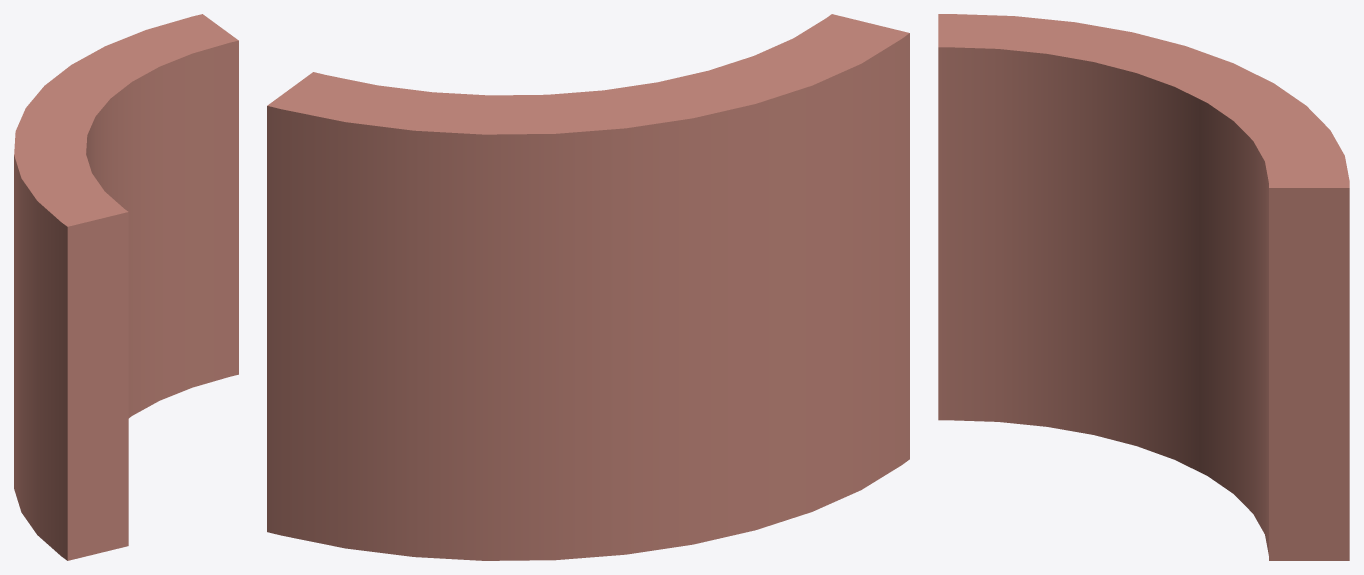
The model's file is BasicWall1x5CornerRoundedLong.fbx.
3 views of the same model, side by side, from view 1: azimuth 30°, elevation 25°; view 2: azimuth 150°, elevation 25°; view 3: azimuth 270°, elevation 25° (orthographic). The views are drawn at different scales.
Visible parts, largest first — view 1: BasicWall1x5CornerRoundedLong.002; view 2: BasicWall1x5CornerRoundedLong.002; view 3: BasicWall1x5CornerRoundedLong.002.
Part boxes in pixels (x1,y1,x2,y2): BasicWall1x5CornerRoundedLong.002: (14, 14, 238, 560); BasicWall1x5CornerRoundedLong.002: (267, 14, 909, 560); BasicWall1x5CornerRoundedLong.002: (938, 14, 1349, 560).
Bounding box in the file's own units: 500 × 500 × 500.
